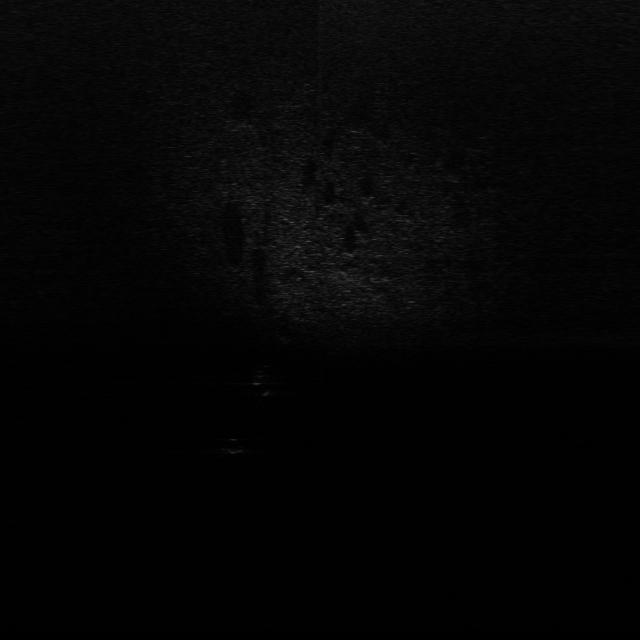ball: (216, 436, 247, 457)
human body: (250, 360, 278, 407)
